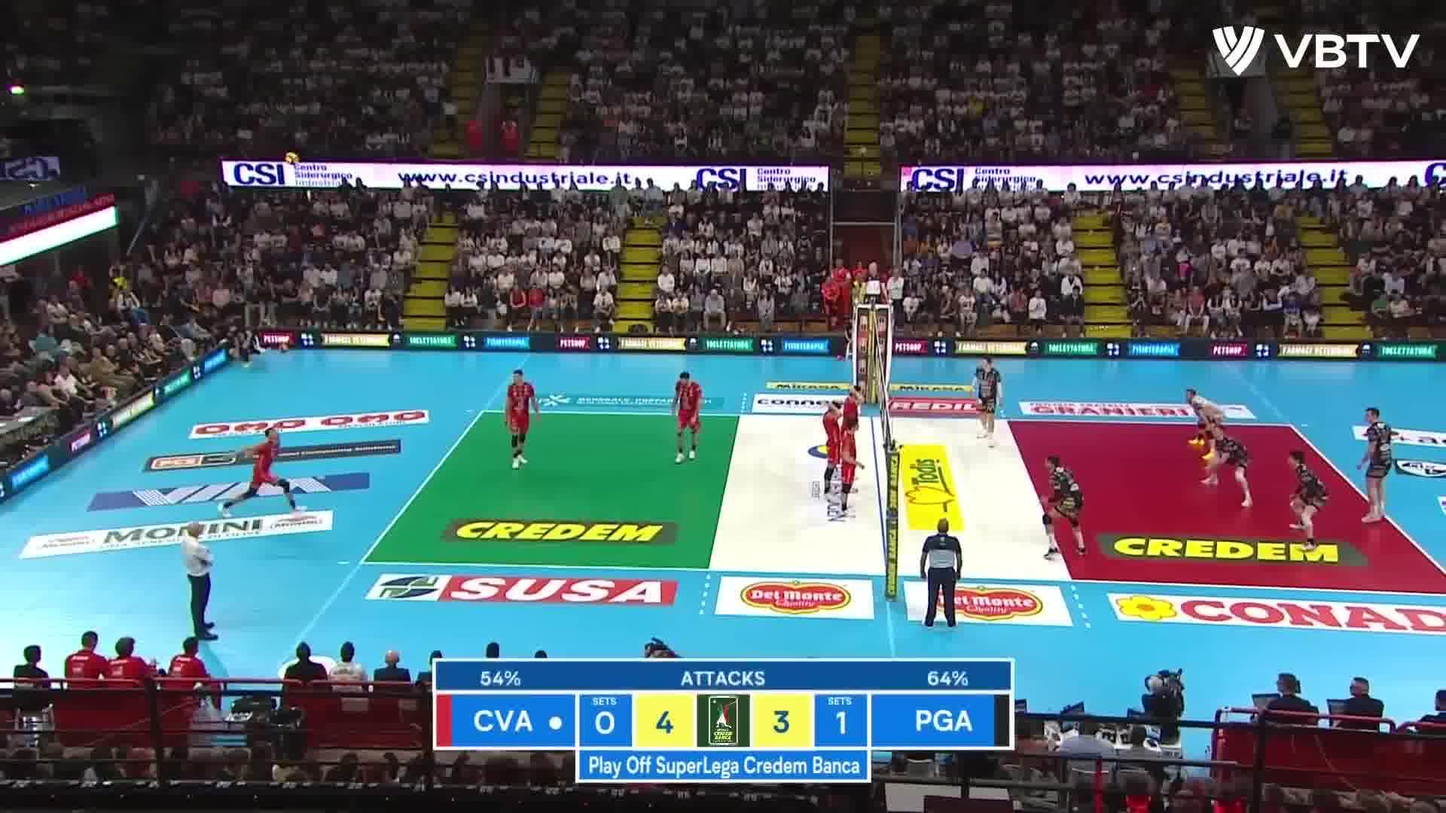balls: (282, 150, 302, 169)
